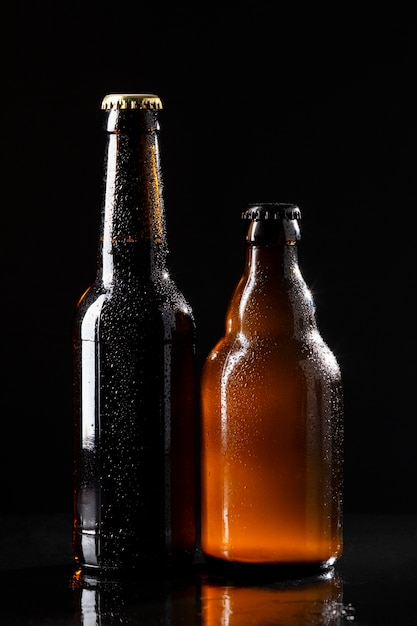alcohol: (73, 95, 197, 592), (200, 202, 347, 575)
